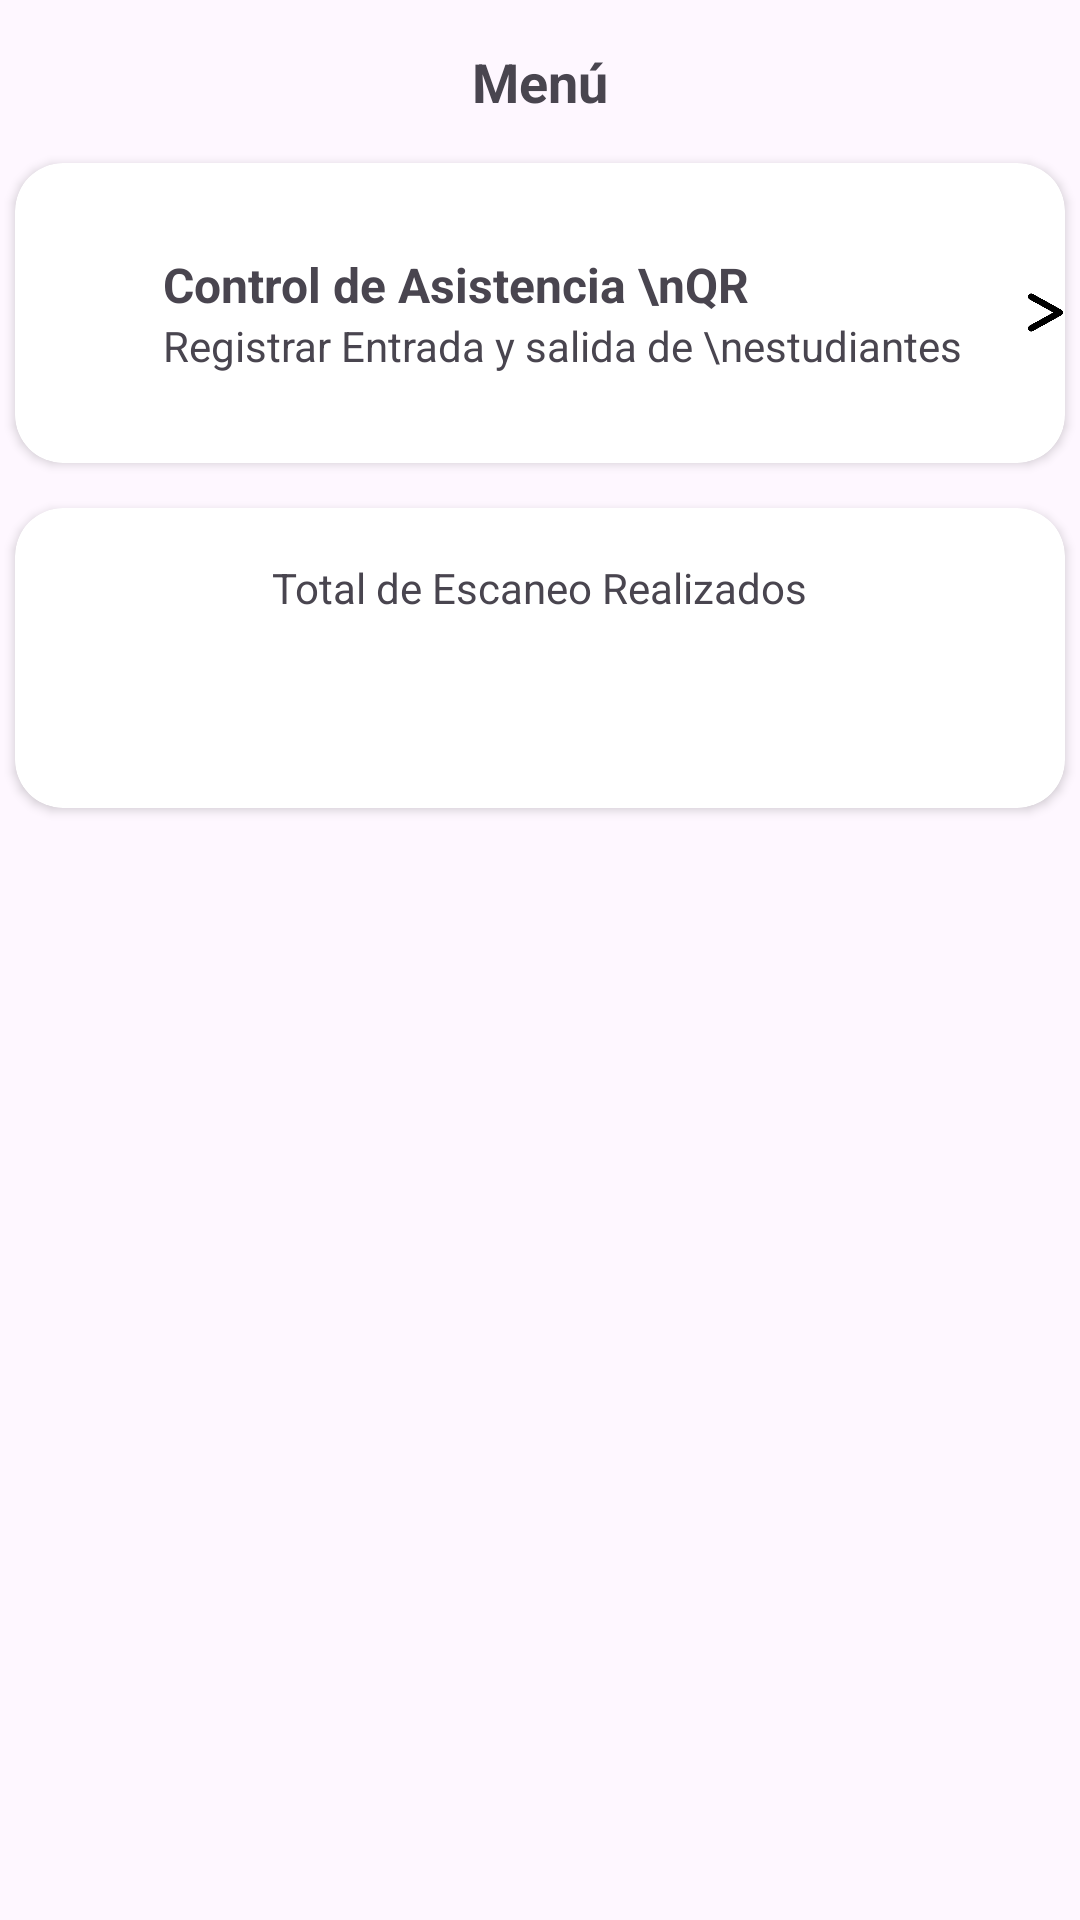

Named icons in this screenshot (1080×1920) and their bounding boxes, (x1, y1, x2, y2):
greaterthan: (1028, 293, 1063, 332)
